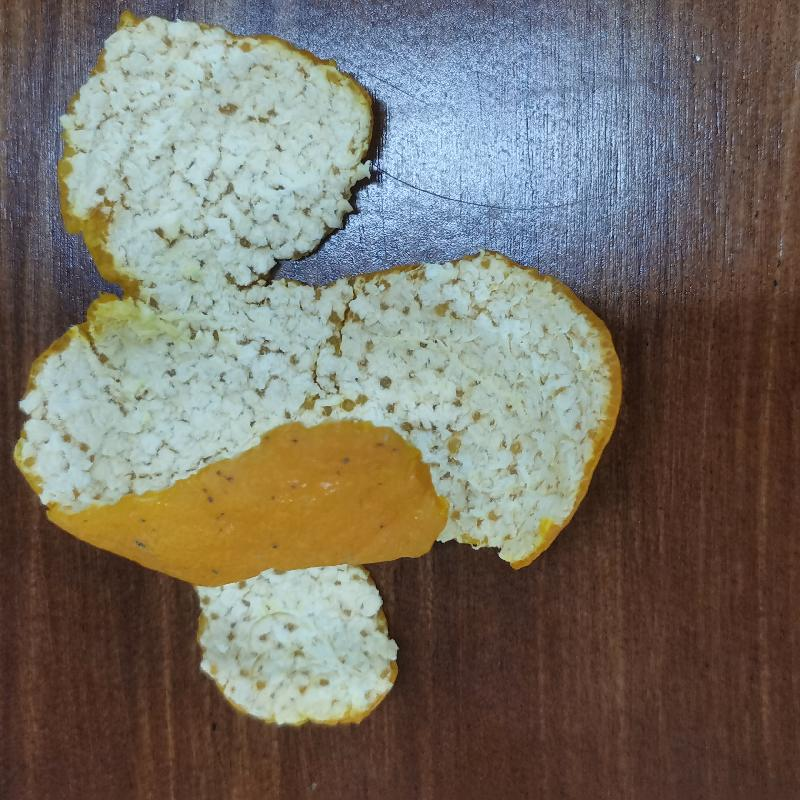orange: (14, 7, 622, 728)
